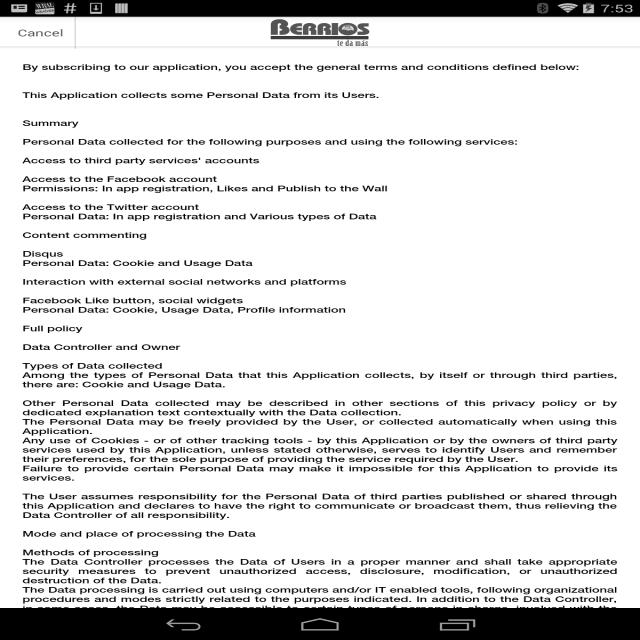ImageView: (261, 16, 387, 48)
TextView: (22, 396, 616, 483), (14, 542, 616, 606), (15, 57, 588, 75), (19, 170, 395, 197), (20, 245, 269, 271), (13, 24, 71, 40)
